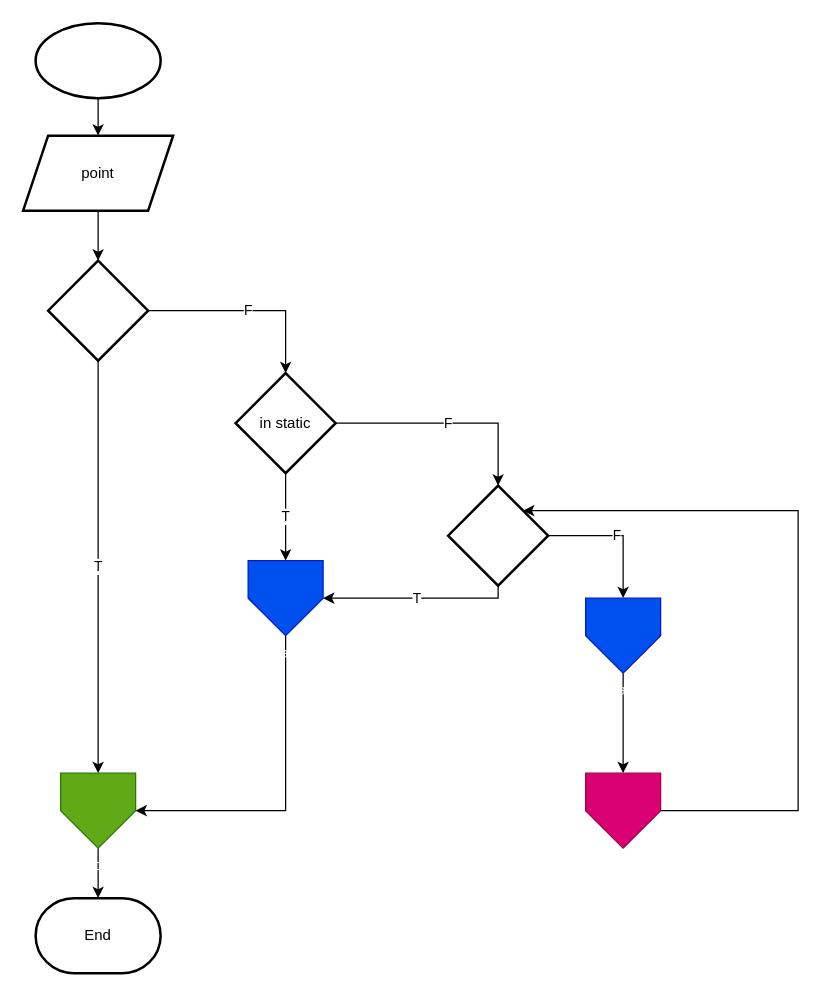
Image size: 830x995. Some labels were removed from this diagram. Here are the shapes that lost their labels. From the top down, the centre of each, then its label:
At (97,60): "Predict".
At (97,310): "in effective".
At (497,535): "in dynamic".
